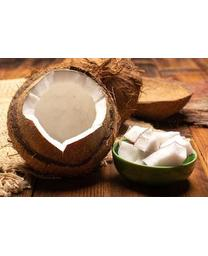coconut: (8, 67, 117, 175)
